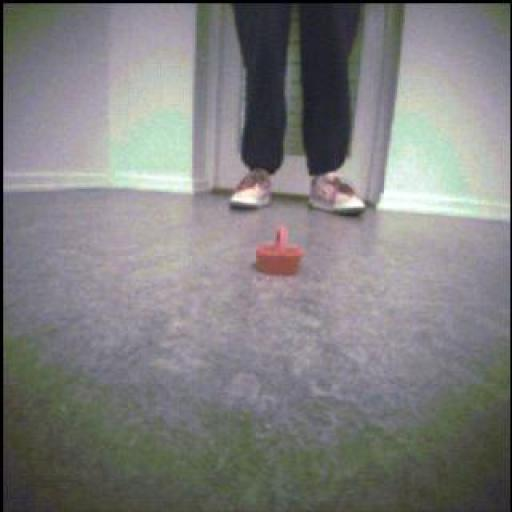Bucket: (257, 227, 305, 276)
